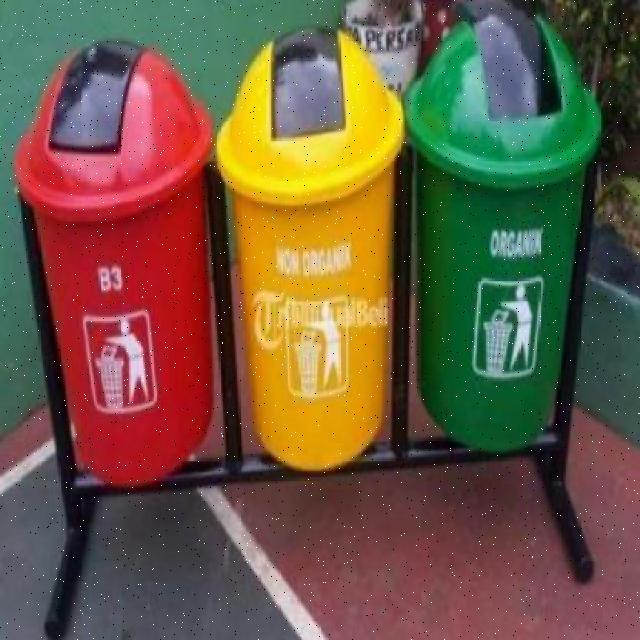garbage container: (15, 24, 217, 501), (406, 3, 608, 468), (213, 10, 407, 472)
